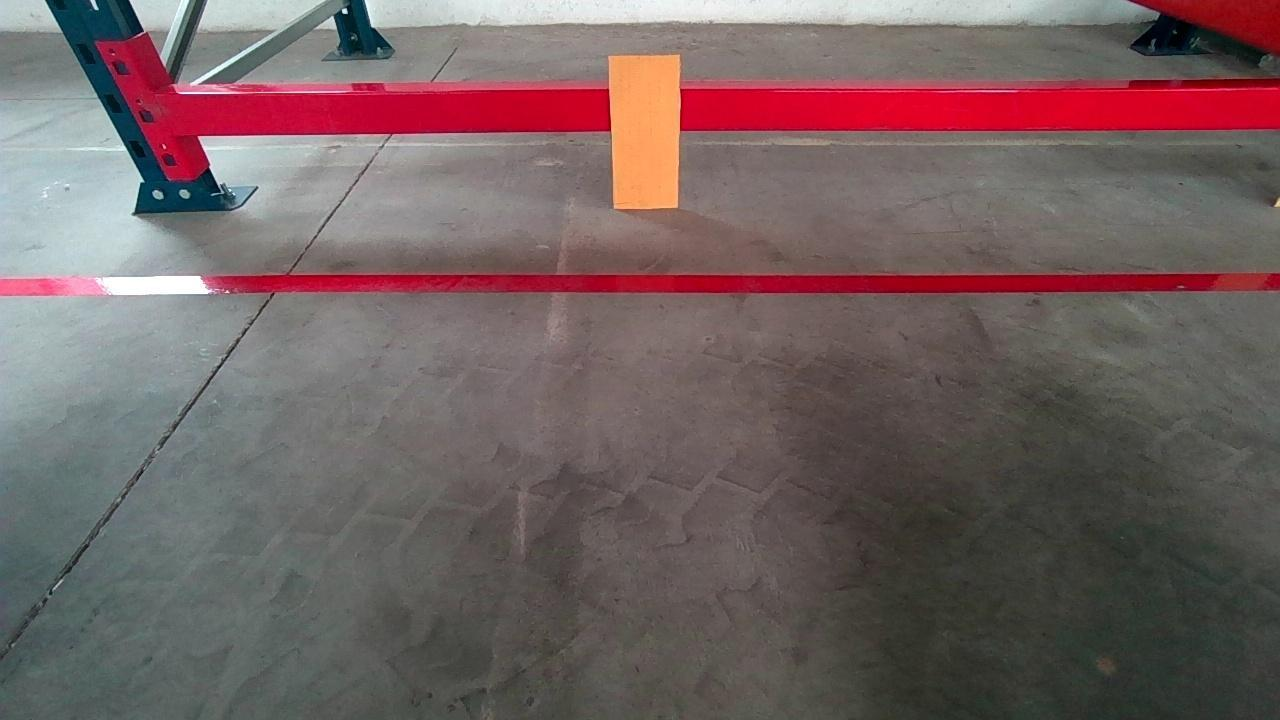h_rack: (172, 73, 1274, 139)
orange_strip: (609, 54, 682, 209)
red_line: (29, 260, 1260, 315)
